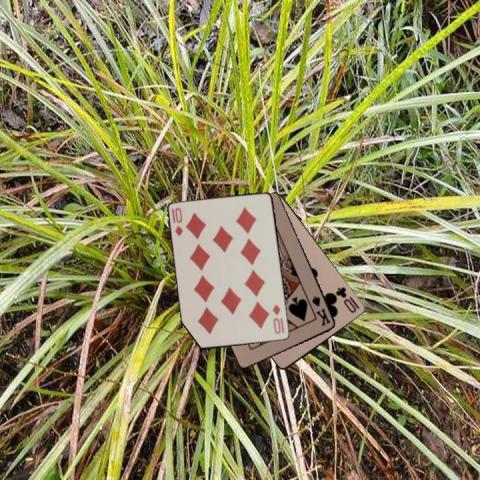10c: (333, 284, 361, 315)
10d: (169, 205, 184, 238), (269, 302, 282, 335)
Ks: (309, 294, 332, 328)
